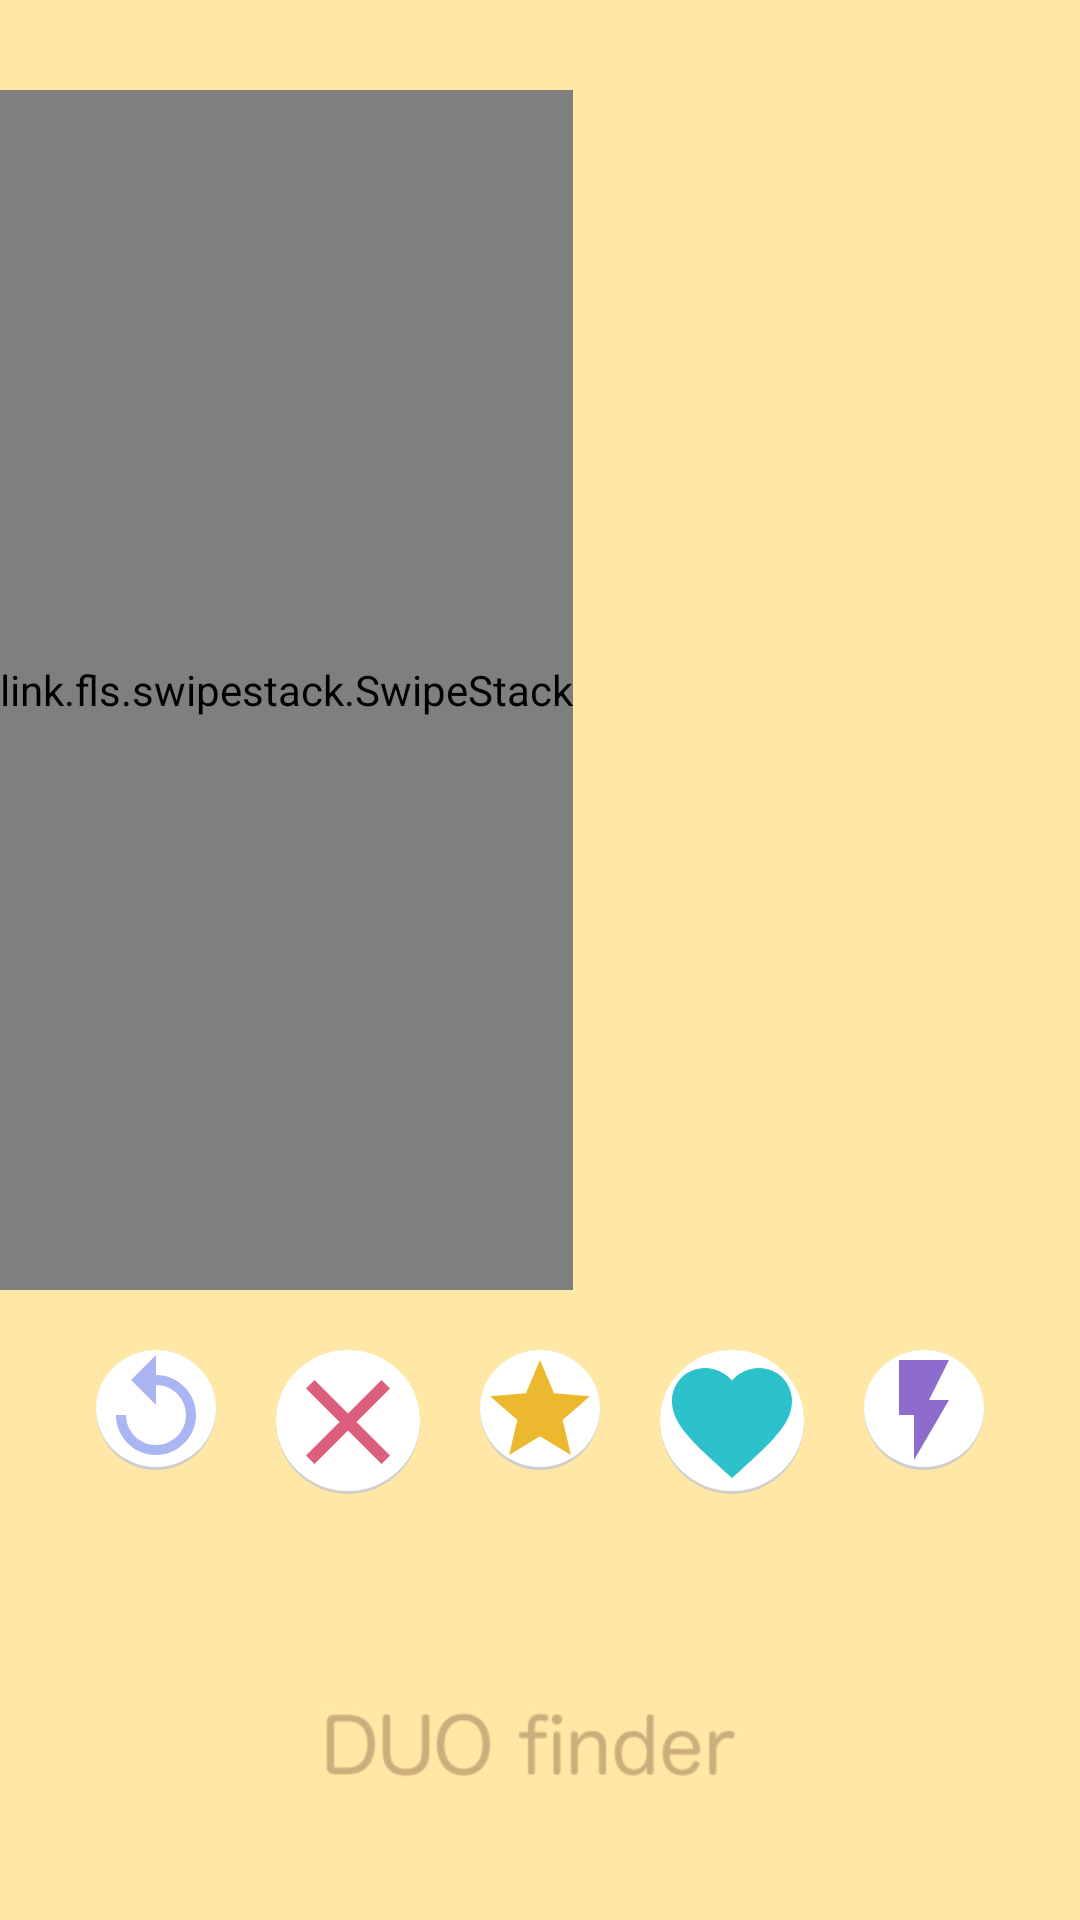

Locate icon controls on the screen. Image size 1080px×1920px, boxes as [x1, y1, x2, y2].
clear: [276, 1350, 420, 1494]
favorite: [660, 1350, 804, 1494]
flash on: [864, 1350, 984, 1470]
replay: [96, 1350, 216, 1470]
star: [480, 1350, 600, 1470]
